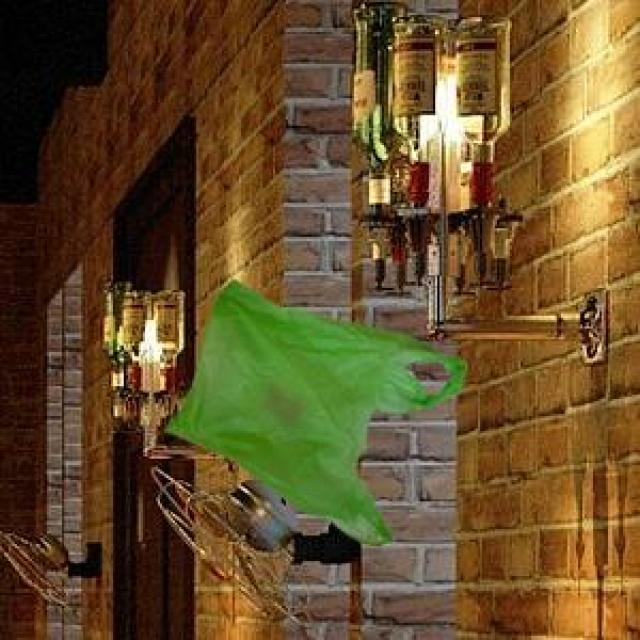plastic: (158, 168, 484, 578)
